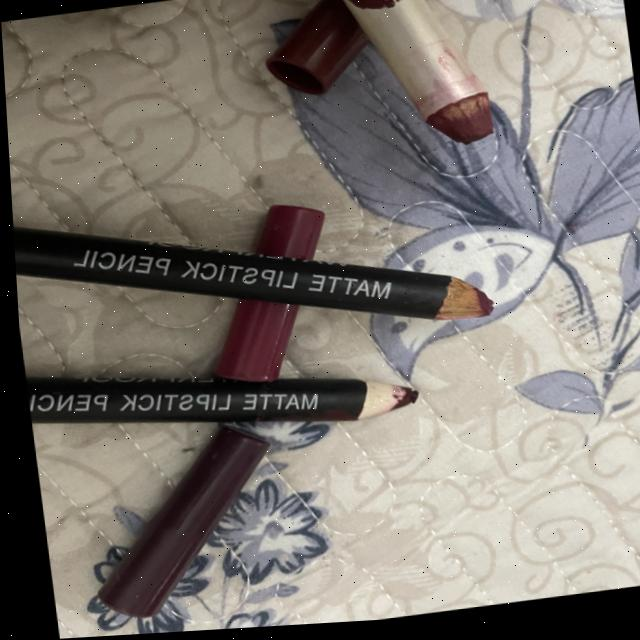lip liner: (10, 192, 511, 470), (237, 0, 534, 194)
